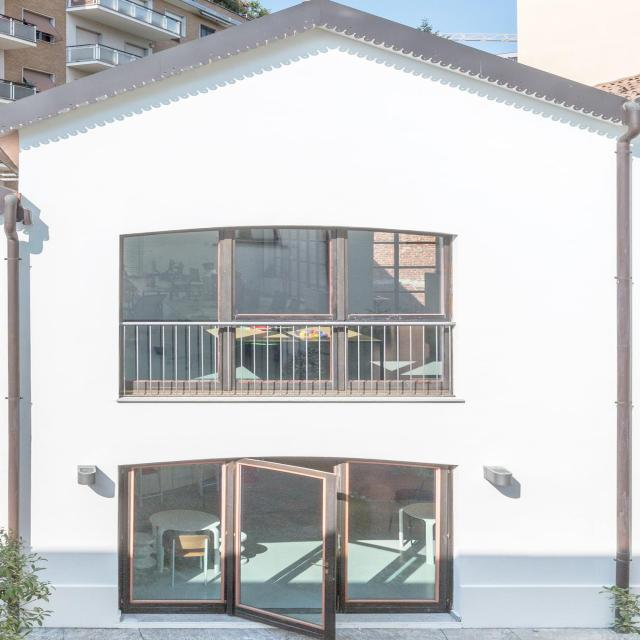door: (223, 457, 343, 614)
railing: (119, 321, 455, 395)
window: (124, 231, 450, 322), (348, 458, 450, 607), (129, 455, 219, 602)
